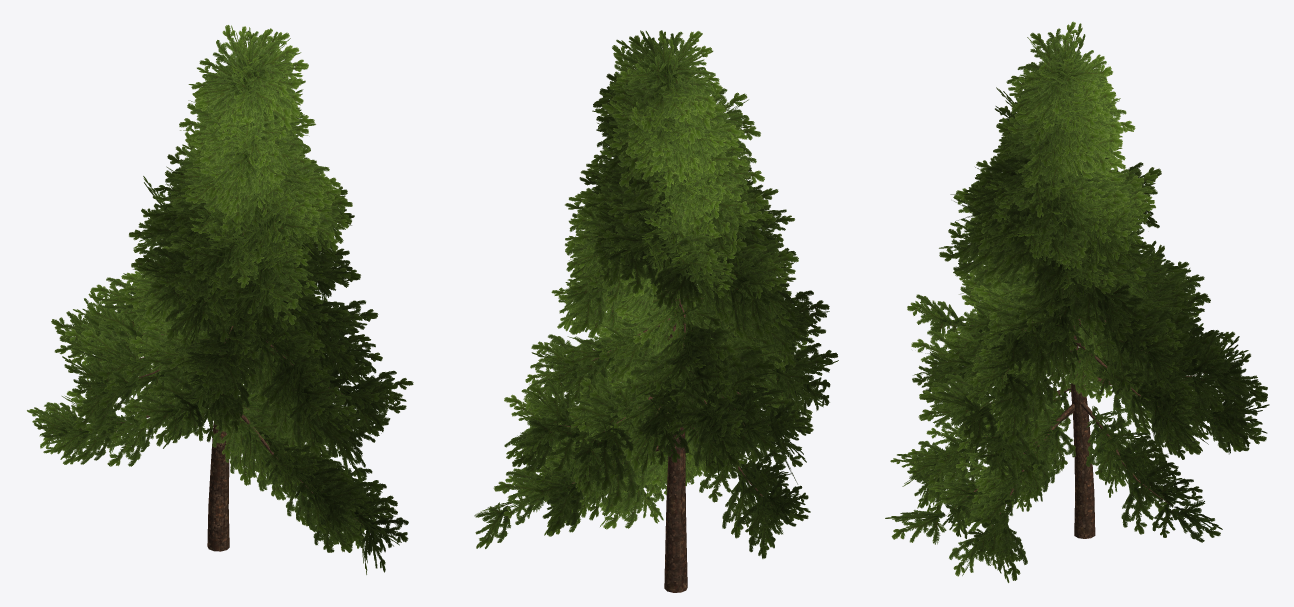
The model's file is coastal-pine.glb.
3 renders of one model, left to right at view 1: azimuth 30°, elevation 25°; view 2: azimuth 150°, elevation 25°; view 3: azimuth 270°, elevation 25°, orthographic. The views are drawn at different scales.
Visible parts, largest first — view 1: Canopy, Branches; view 2: Canopy, Branches; view 3: Canopy, Branches.
Part boxes in pixels (left/top/right/bottom): Canopy: left=27, top=25, right=413, bottom=574; Branches: left=117, top=208, right=362, bottom=551; Canopy: left=474, top=30, right=838, bottom=558; Branches: left=504, top=75, right=771, bottom=592; Canopy: left=885, top=21, right=1269, bottom=582; Branches: left=946, top=276, right=1219, bottom=538.
Size of the model in its own units: 9.11 by 15 by 10.12.
Materials: 2 (2 with a texture image).
